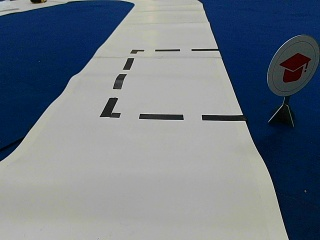school: (266, 35, 317, 95)
